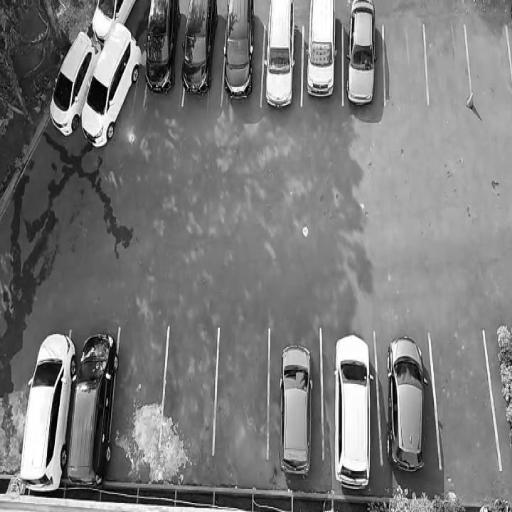Car: (16, 325, 80, 493), (61, 325, 121, 498), (74, 9, 145, 155), (326, 328, 376, 494), (382, 327, 430, 474), (43, 24, 103, 141), (276, 341, 316, 482), (179, 0, 218, 107), (262, 0, 297, 113), (344, 1, 380, 108), (304, 0, 340, 106), (220, 0, 256, 104), (143, 0, 178, 102), (87, 0, 136, 48)
Space Available: (429, 331, 501, 469), (109, 323, 169, 448), (159, 324, 218, 451), (212, 328, 269, 458), (424, 22, 473, 103), (465, 25, 512, 104), (383, 25, 427, 104)
